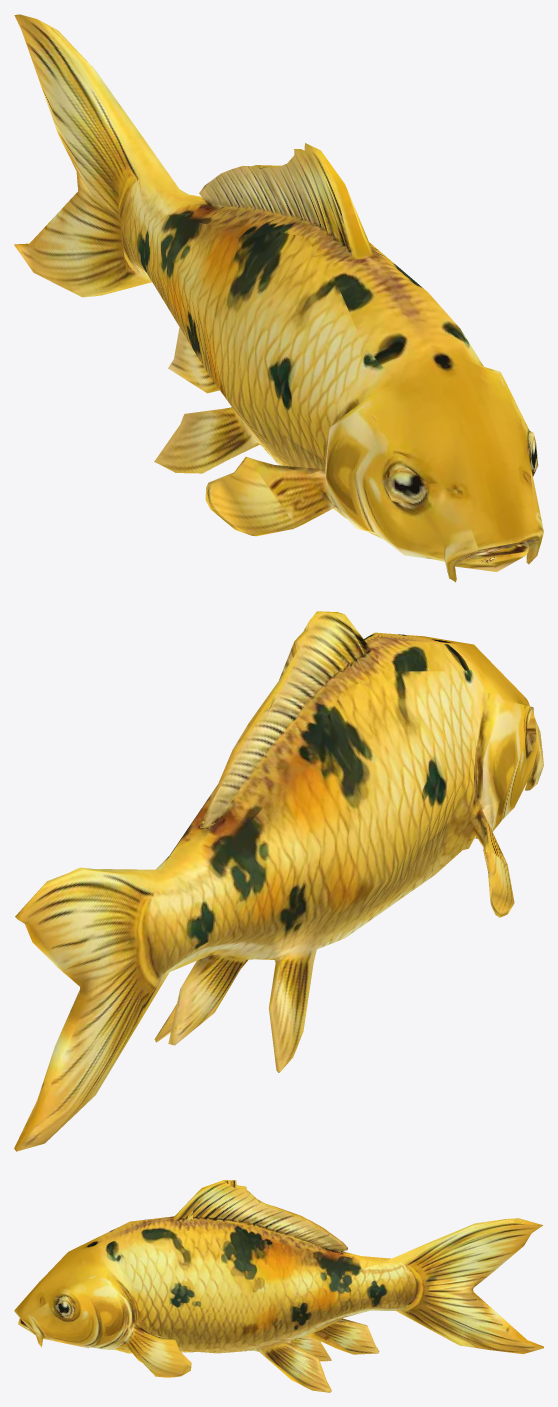
The model's file is golden-koi.glb.
3 renders of one model, top to bottom at view 1: azimuth 30°, elevation 25°; view 2: azimuth 150°, elevation 25°; view 3: azimuth 270°, elevation 25°, orthographic. The views are drawn at different scales.
Visible parts, largest first — view 1: golden-koi; view 2: golden-koi; view 3: golden-koi.
Boxes of the visible parts, bbox=[...] form: golden-koi: bbox=[14, 14, 543, 582]; golden-koi: bbox=[14, 611, 543, 1151]; golden-koi: bbox=[14, 1180, 543, 1392].
Bounding box in the file's own units: 0.333 × 0.4089 × 1.
Materials: 1 (1 with a texture image).
